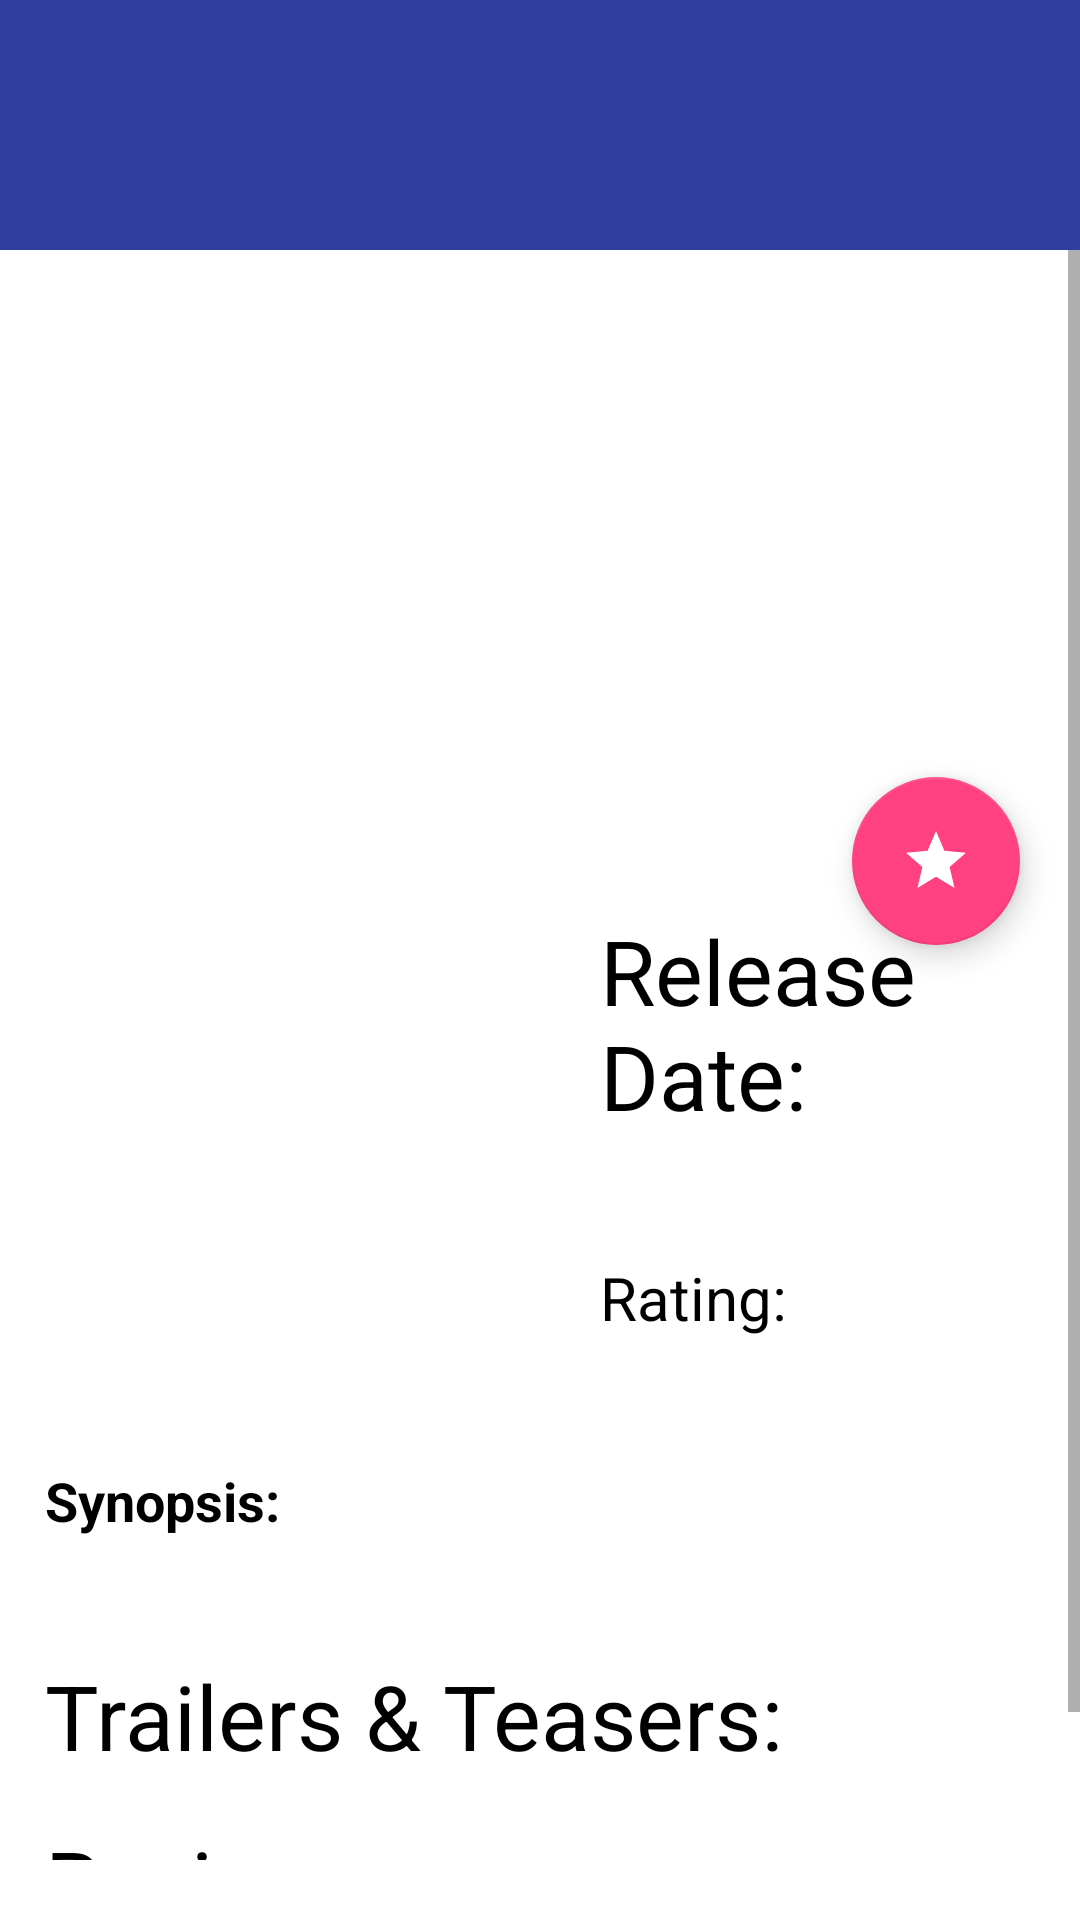

Screen size 1080 x 1920. Icon name, then its center in pixels as [x,y]:
star: [936,861]
